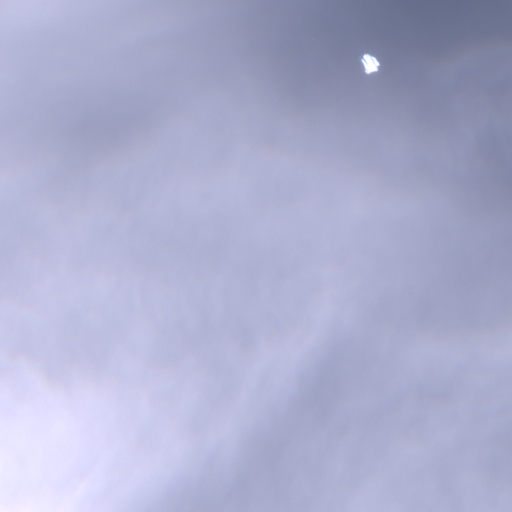Iceberg: (361, 53, 379, 73)
